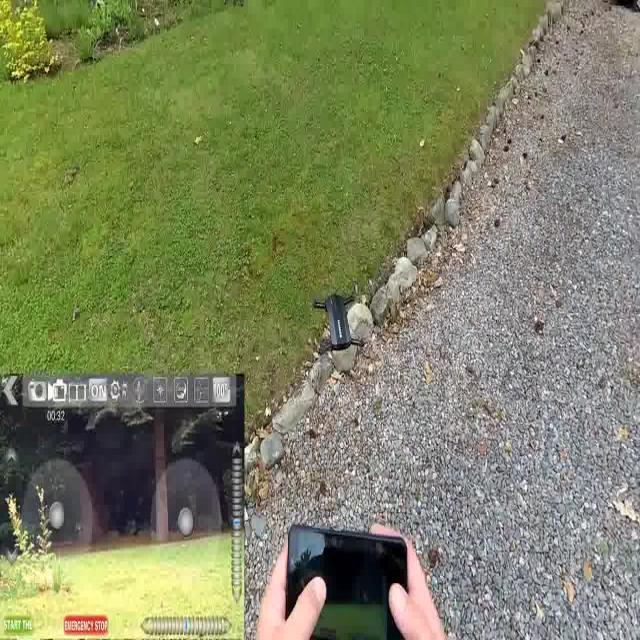drone: (306, 284, 370, 362)
